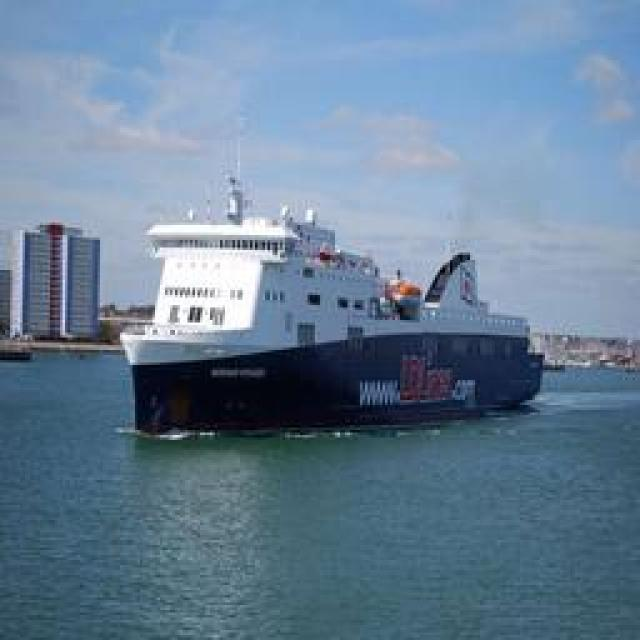CIV_Ship: (119, 184, 546, 438)
